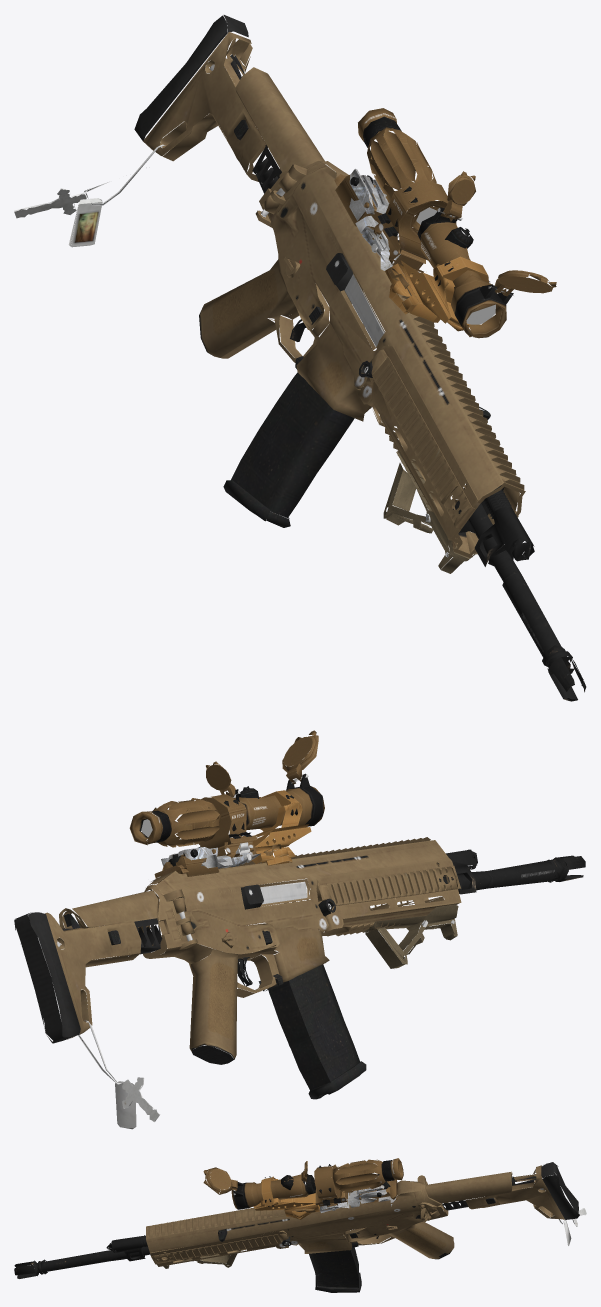
File: carbine.glb
The picture shows the model from 3 angles, top to bottom: view 1: azimuth 30°, elevation 25°; view 2: azimuth 150°, elevation 25°; view 3: azimuth 270°, elevation 25°; orthographic projection. The views are drawn at different scales.
Parts seen in each view (by area): view 1: carbine; view 2: carbine; view 3: carbine.
Part boxes in pixels (box(x1,y1,x2,y2)): carbine: box(14, 15, 586, 701); carbine: box(14, 730, 585, 1129); carbine: box(14, 1158, 586, 1292).
Bounding box in the file's own units: 0.2029 × 0.305 × 0.9.
Materials: 3 (3 with a texture image).
